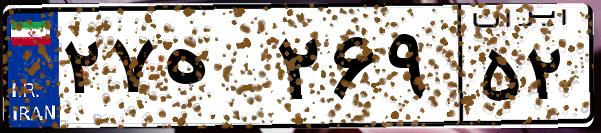2: (270, 28, 330, 110), (57, 26, 110, 100), (525, 38, 570, 115)
5: (475, 38, 525, 113)
6: (330, 28, 385, 110)
7: (110, 28, 158, 98)
9: (385, 28, 445, 110)
ه: (158, 20, 270, 120)
